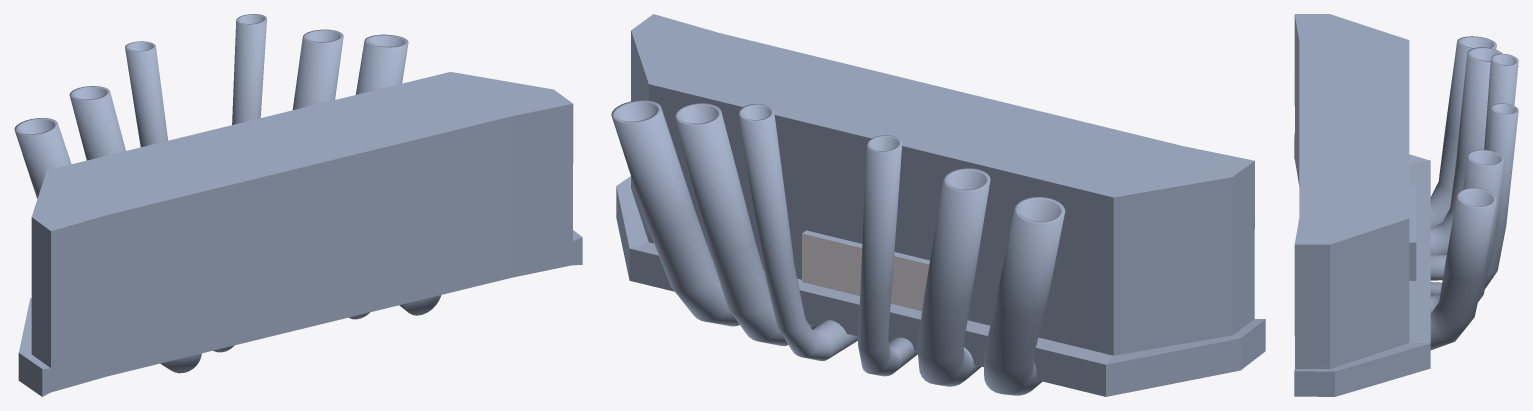
Rendered from bumper3.3.fbx.
3 views of the same model, side by side, from view 1: azimuth 30°, elevation 25°; view 2: azimuth 150°, elevation 25°; view 3: azimuth 270°, elevation 25° (orthographic). The views are drawn at different scales.
Visible parts, largest first — view 1: bumper3; view 2: bumper3; view 3: bumper3.
Part boxes in pixels (bbox=[...]): bumper3: bbox=[14, 14, 582, 396]; bumper3: bbox=[611, 14, 1265, 396]; bumper3: bbox=[1294, 14, 1518, 396].
Size of the model in its own units: 2.28 by 0.9438 by 0.9052.
